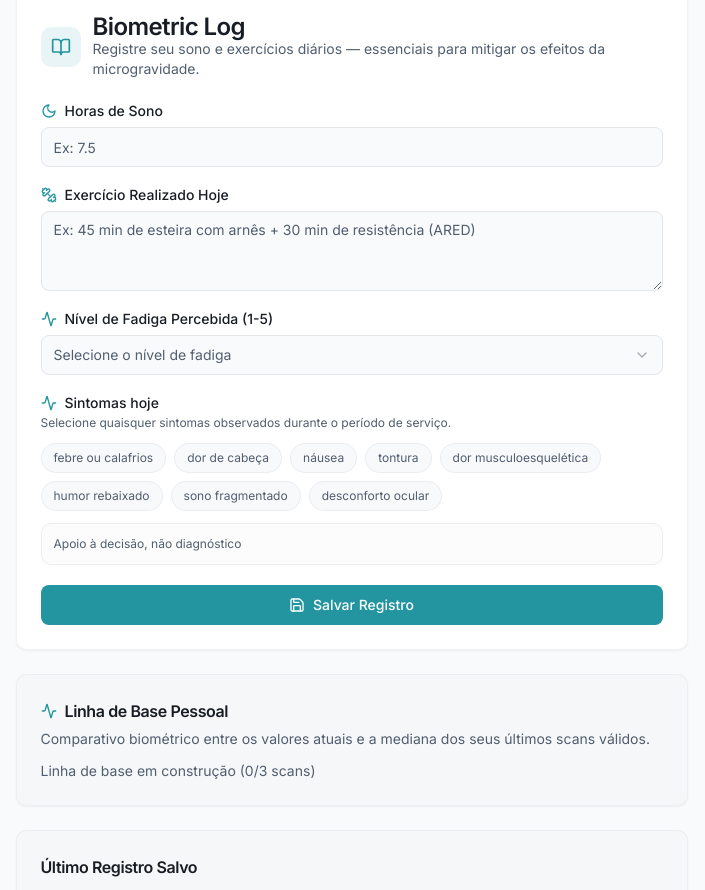
Test: MissionLog (AAA Pattern) › 7. Sintomas hoje e Apoio à Decisão (AAA) › limite de 1 sintoma com NO-GO: não exibe recomendação
The width and height of the screenshot is (705, 890).
Click the button "dor de cabeça": (228,458) [174,443,282,473]
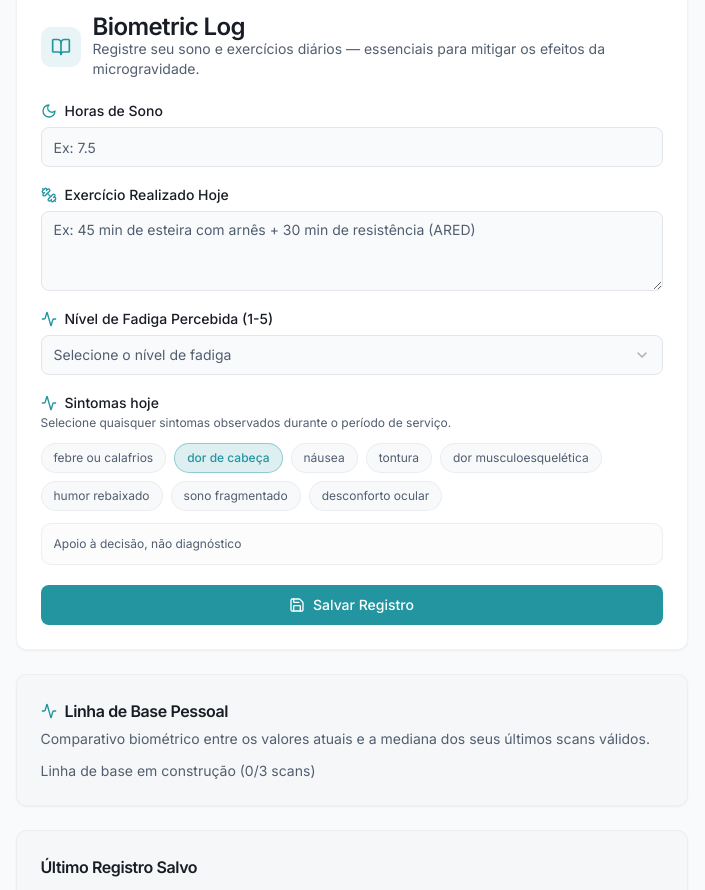
Expected: the text "Apoio à decisão, não diagnóstico" is shown, [54,536,241,551]
Now the button "dor de cabeça" is pressed, box [174,443,283,473]
